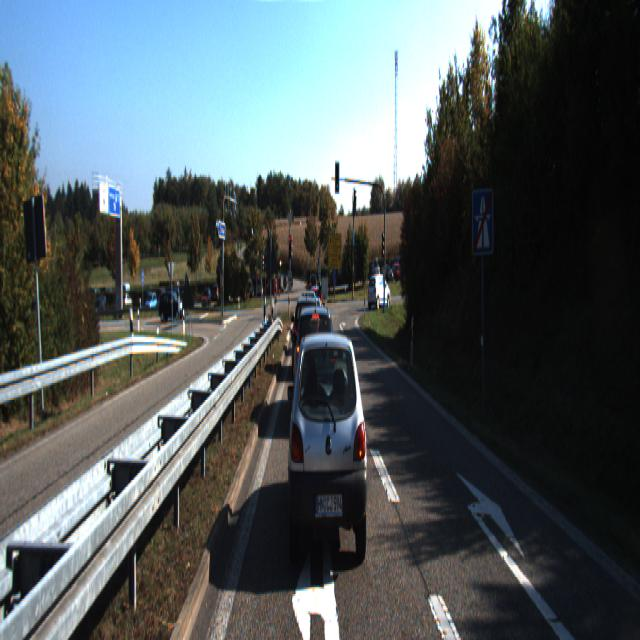Car: (288, 321, 372, 576), (293, 303, 339, 431), (368, 275, 391, 309)
